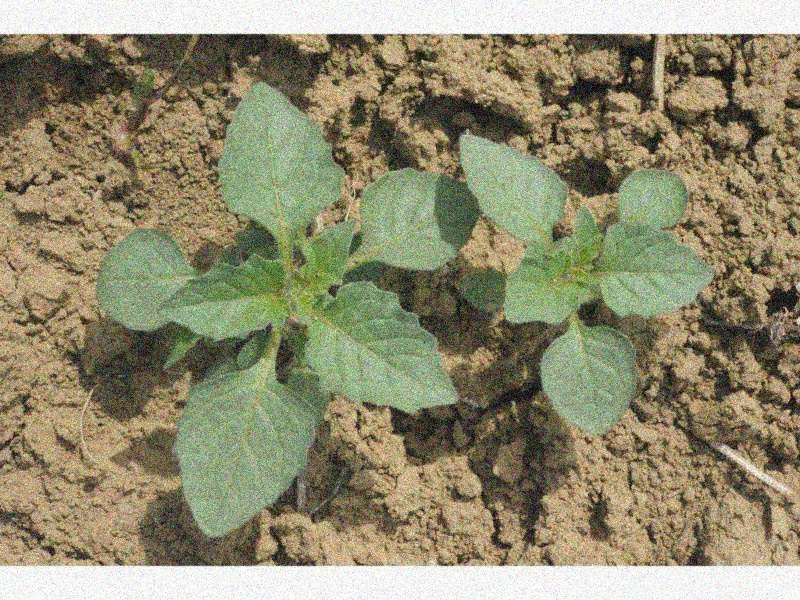nightshade: (96, 80, 480, 536), (456, 132, 714, 437)
